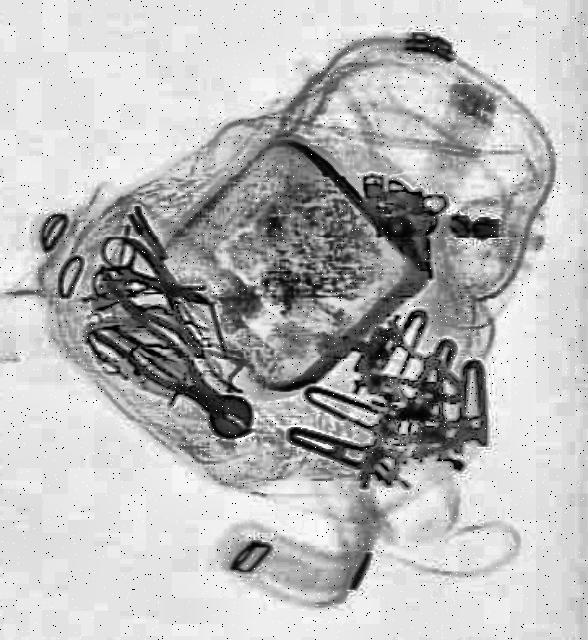Pliers: (95, 296, 239, 426), (95, 233, 227, 371)
Scissors: (89, 226, 225, 328)
